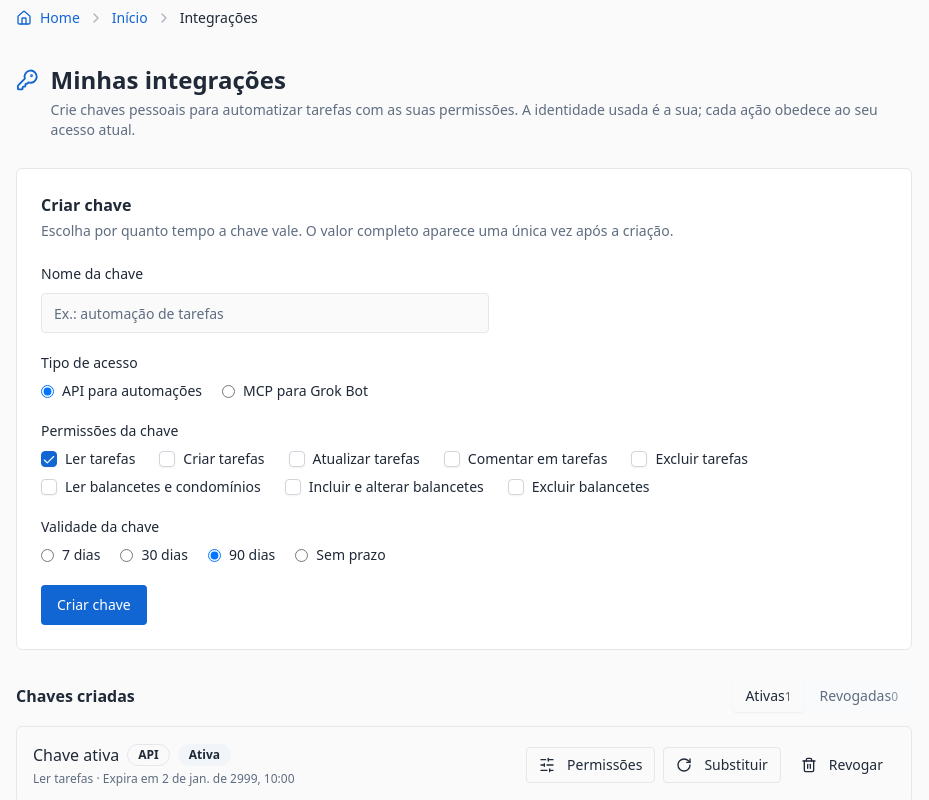
personal integration keys › status filter › explains when no key was ever revoked
Expected: the text "Chave ativa" is shown, x1=33 y1=743 x2=119 y2=767
Click the radio button labelled "Revogadas0": x=859, y=696 x1=808 y1=680 x2=910 y2=712
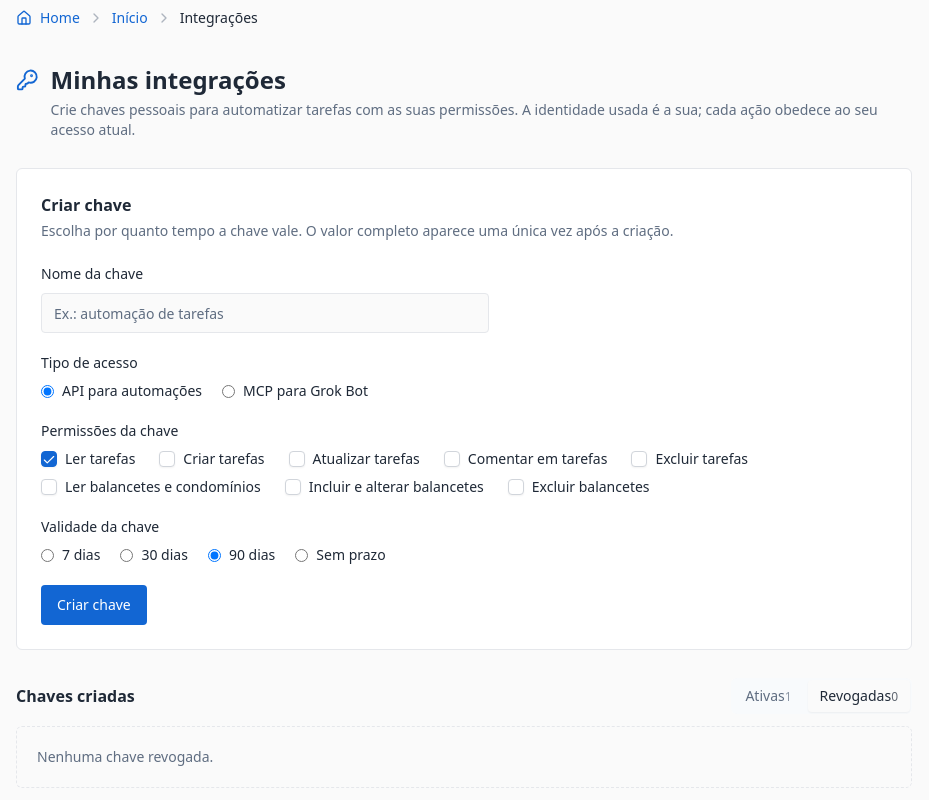
Now the text "Nenhuma chave revogada." is shown, box x1=16 y1=726 x2=912 y2=788
